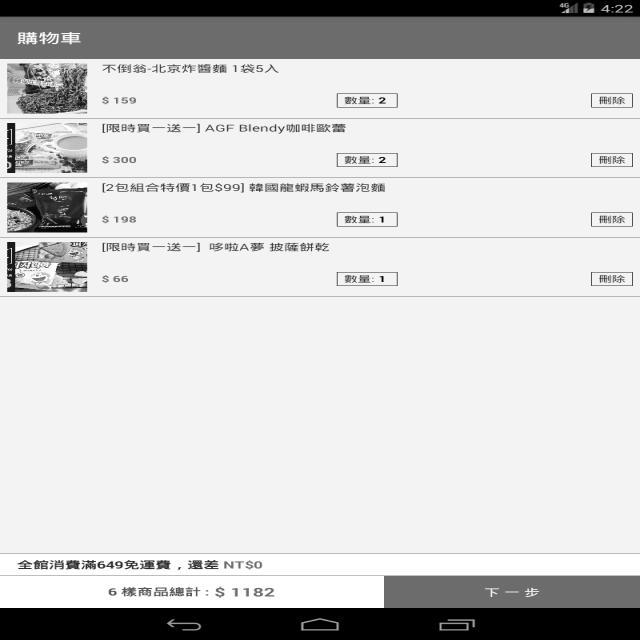Button: (380, 572, 637, 610), (586, 89, 638, 111), (586, 209, 638, 229)
ImageView: (2, 61, 90, 115), (4, 181, 90, 234)
TextView: (96, 178, 394, 195), (96, 237, 338, 257), (97, 59, 287, 79), (102, 582, 284, 600), (10, 30, 89, 48), (98, 93, 144, 107), (102, 211, 140, 225)
